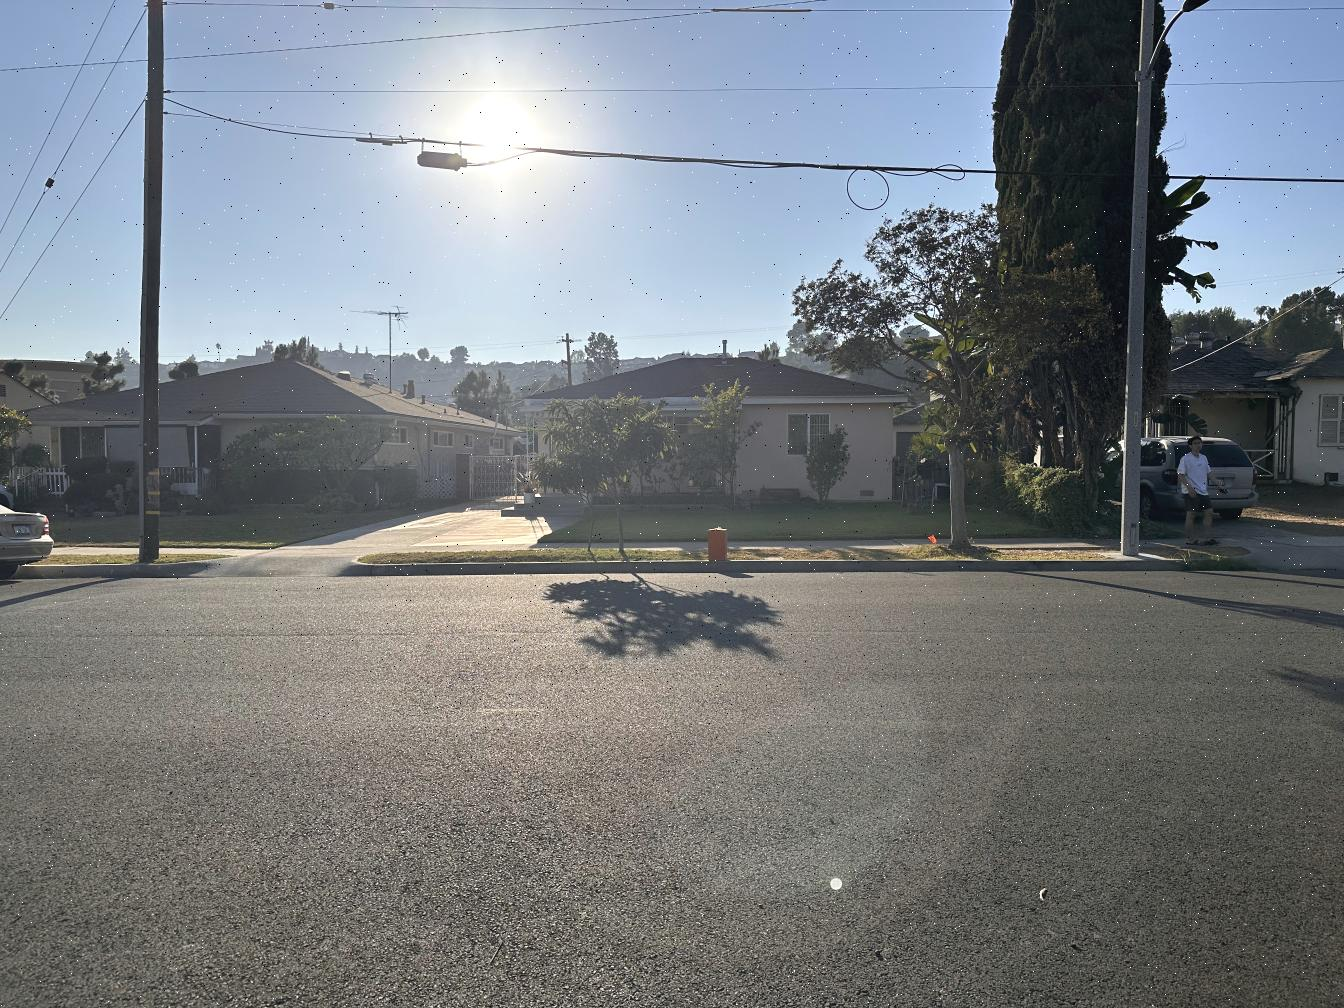curbs-laRr: (376, 561, 1230, 574)
orange box: (707, 527, 729, 561)
